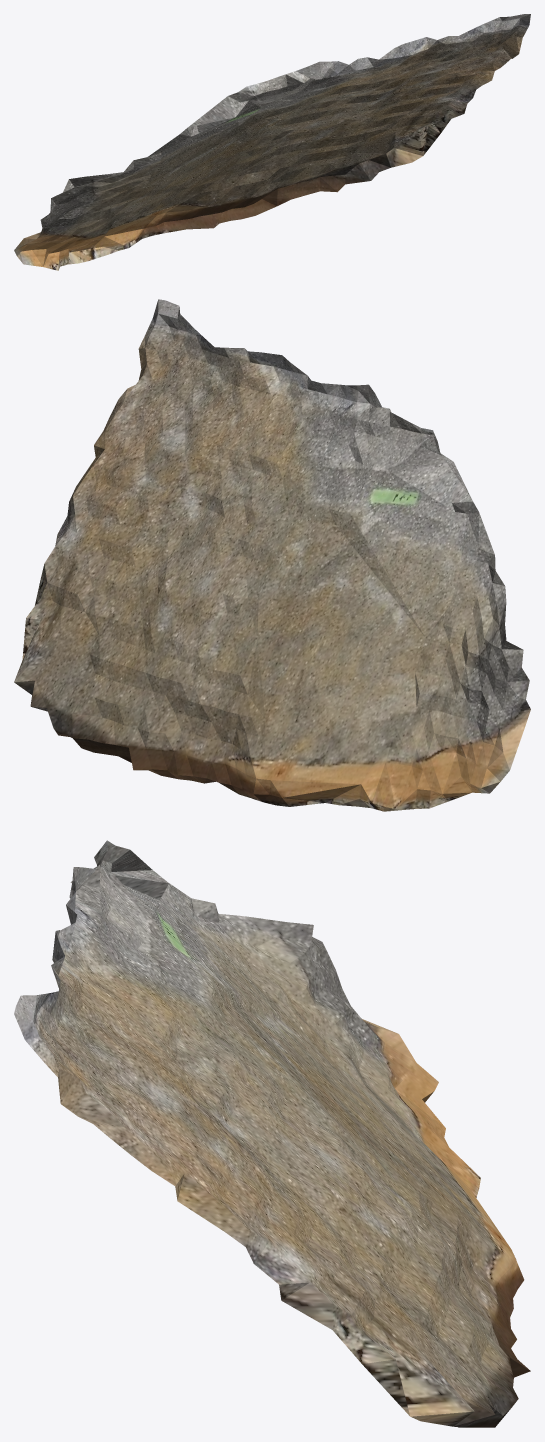
3 views of the same model, one above another, from view 1: azimuth 30°, elevation 25°; view 2: azimuth 150°, elevation 25°; view 3: azimuth 270°, elevation 25° (orthographic). The views are drawn at different scales.
Bounding box in the file's own units: 546 × 336 × 328.
